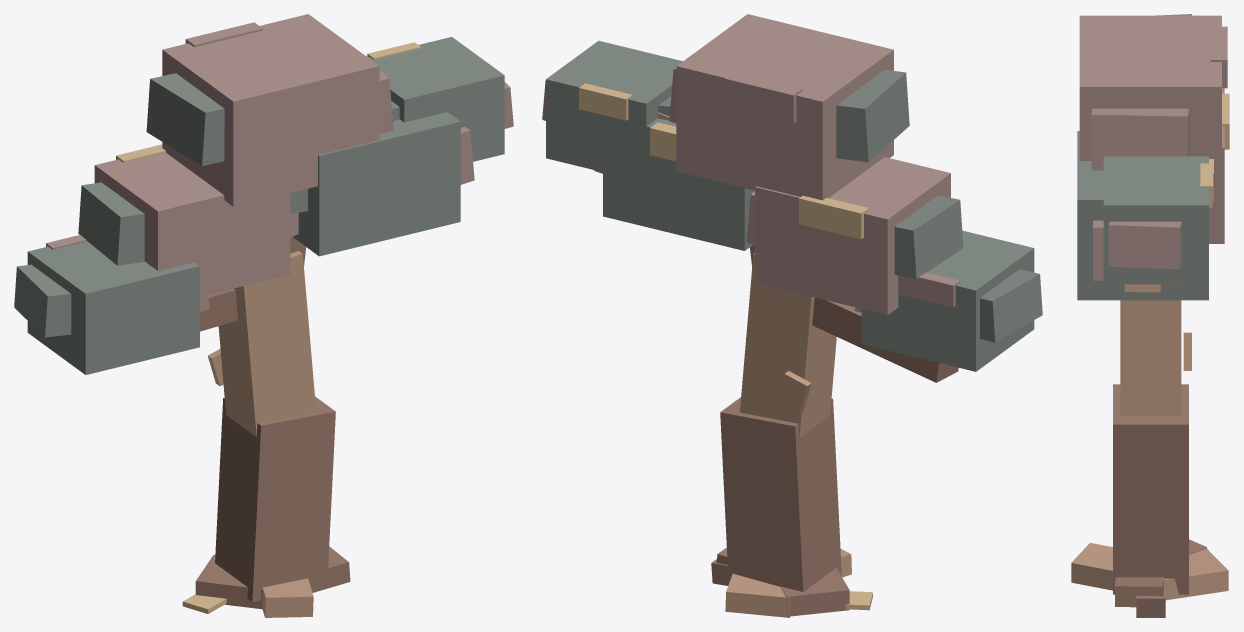
File: menu_twilight_tree_v2.glb
3 views of the same model, side by side, from view 1: azimuth 30°, elevation 25°; view 2: azimuth 150°, elevation 25°; view 3: azimuth 270°, elevation 25° (orthographic).
Parts seen in each view (by area): view 1: Moonpost Warm Twilight Tree V2; view 2: Moonpost Warm Twilight Tree V2; view 3: Moonpost Warm Twilight Tree V2.
Part boxes in pixels (x1,y1,x2,y2): Moonpost Warm Twilight Tree V2: [14, 14, 513, 617]; Moonpost Warm Twilight Tree V2: [542, 14, 1042, 617]; Moonpost Warm Twilight Tree V2: [1071, 14, 1229, 617].
Size of the model in its own units: 10.29 by 11.24 by 3.01.
